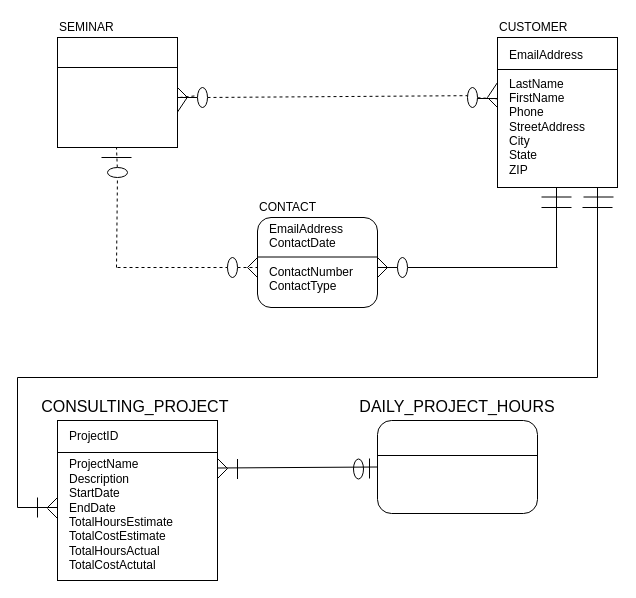
The diagram is 636 pixels wide and 598 high, and some of its shapes have lost their labels. The centre of each missing label's shape, as x and y in pixels:
"ProjectID WorkDate HoursWorked WorkDescription" goes at [457,467].
"SeminarID SeminarDate SeminarTime Location SeminarTitle" goes at [117,92].
